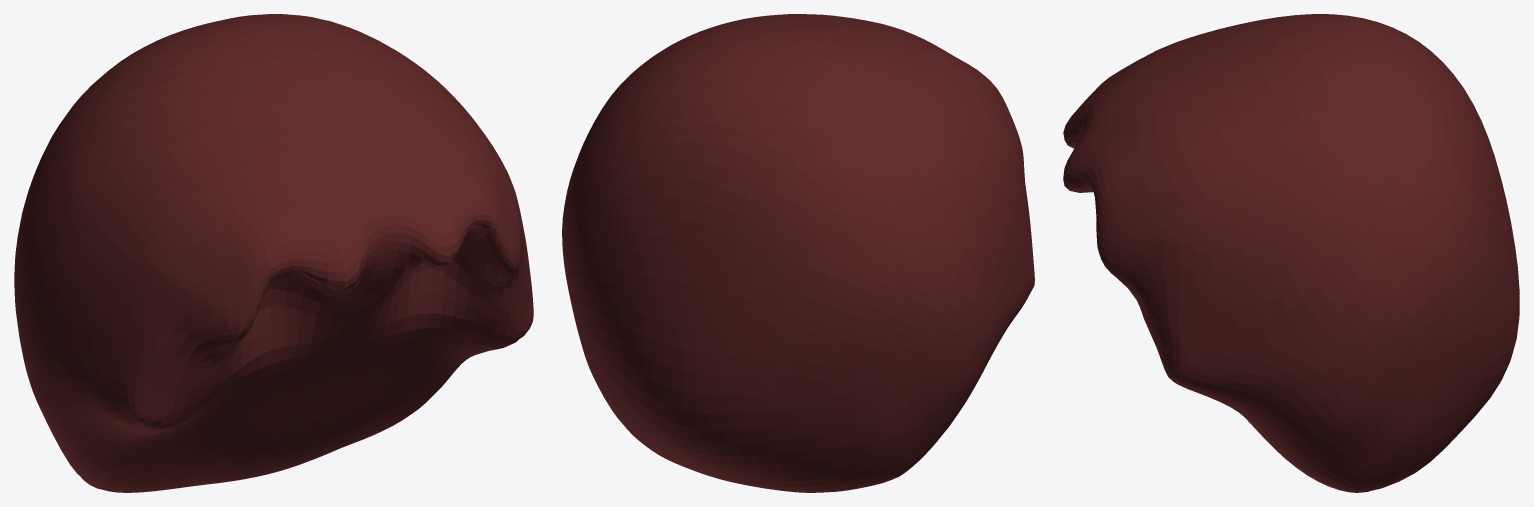
The model's file is Wavy Hair.fbx.
3 renders of one model, left to right at view 1: azimuth 30°, elevation 25°; view 2: azimuth 150°, elevation 25°; view 3: azimuth 270°, elevation 25°, orthographic. The views are drawn at different scales.
Visible parts, largest first — view 1: RonRon_Hair:Group63976; view 2: RonRon_Hair:Group63976; view 3: RonRon_Hair:Group63976.
Boxes of the visible parts, <box> form: RonRon_Hair:Group63976: <box>14,14,533,492</box>; RonRon_Hair:Group63976: <box>562,14,1034,492</box>; RonRon_Hair:Group63976: <box>1063,14,1519,492</box>.
Size of the model in its own units: 1.89 by 1.84 by 1.86.
